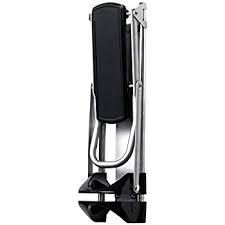Unknown plastic: (87, 5, 136, 125), (74, 173, 159, 225)
